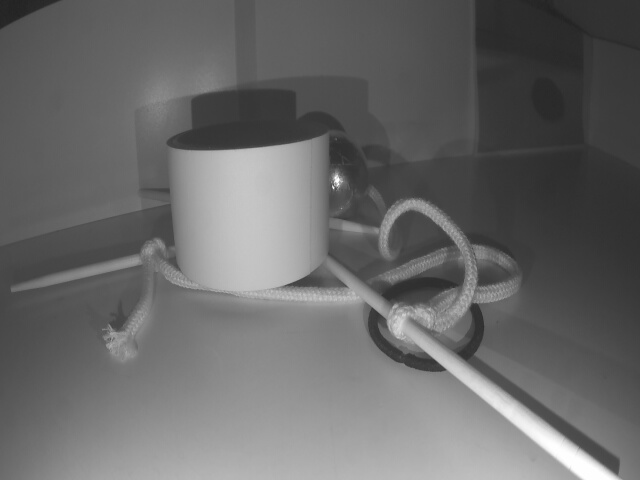Live: (328, 134, 368, 217)
